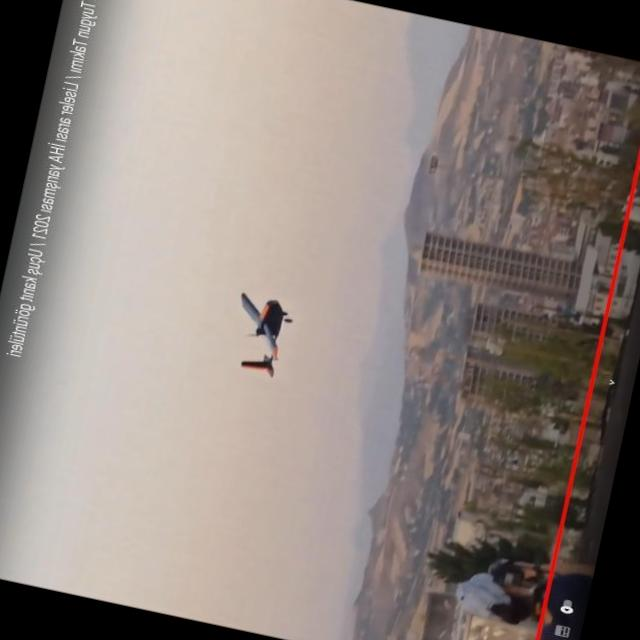UAV: (208, 286, 315, 416)
